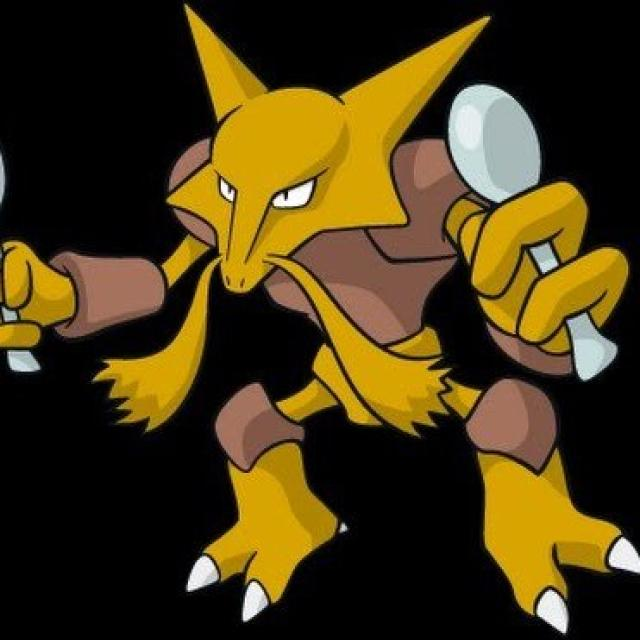Alakazam: (166, 83, 586, 553)
